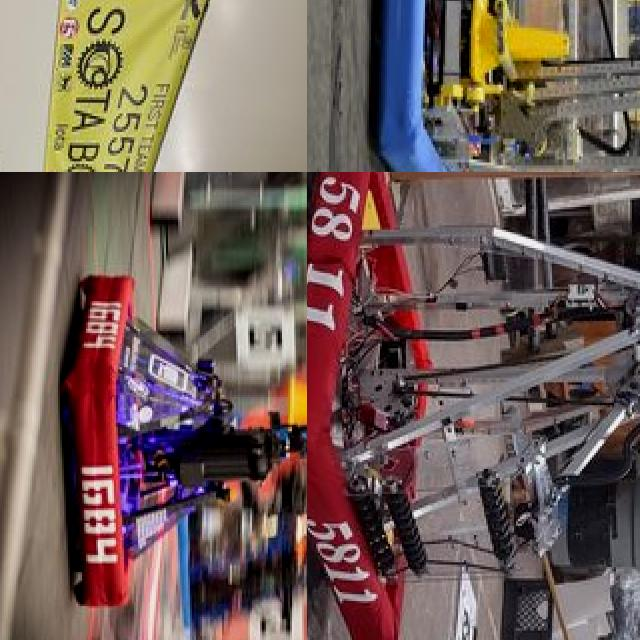FRC-Robots: (307, 172, 640, 640), (42, 240, 307, 640), (327, 0, 640, 172), (0, 0, 287, 172)
